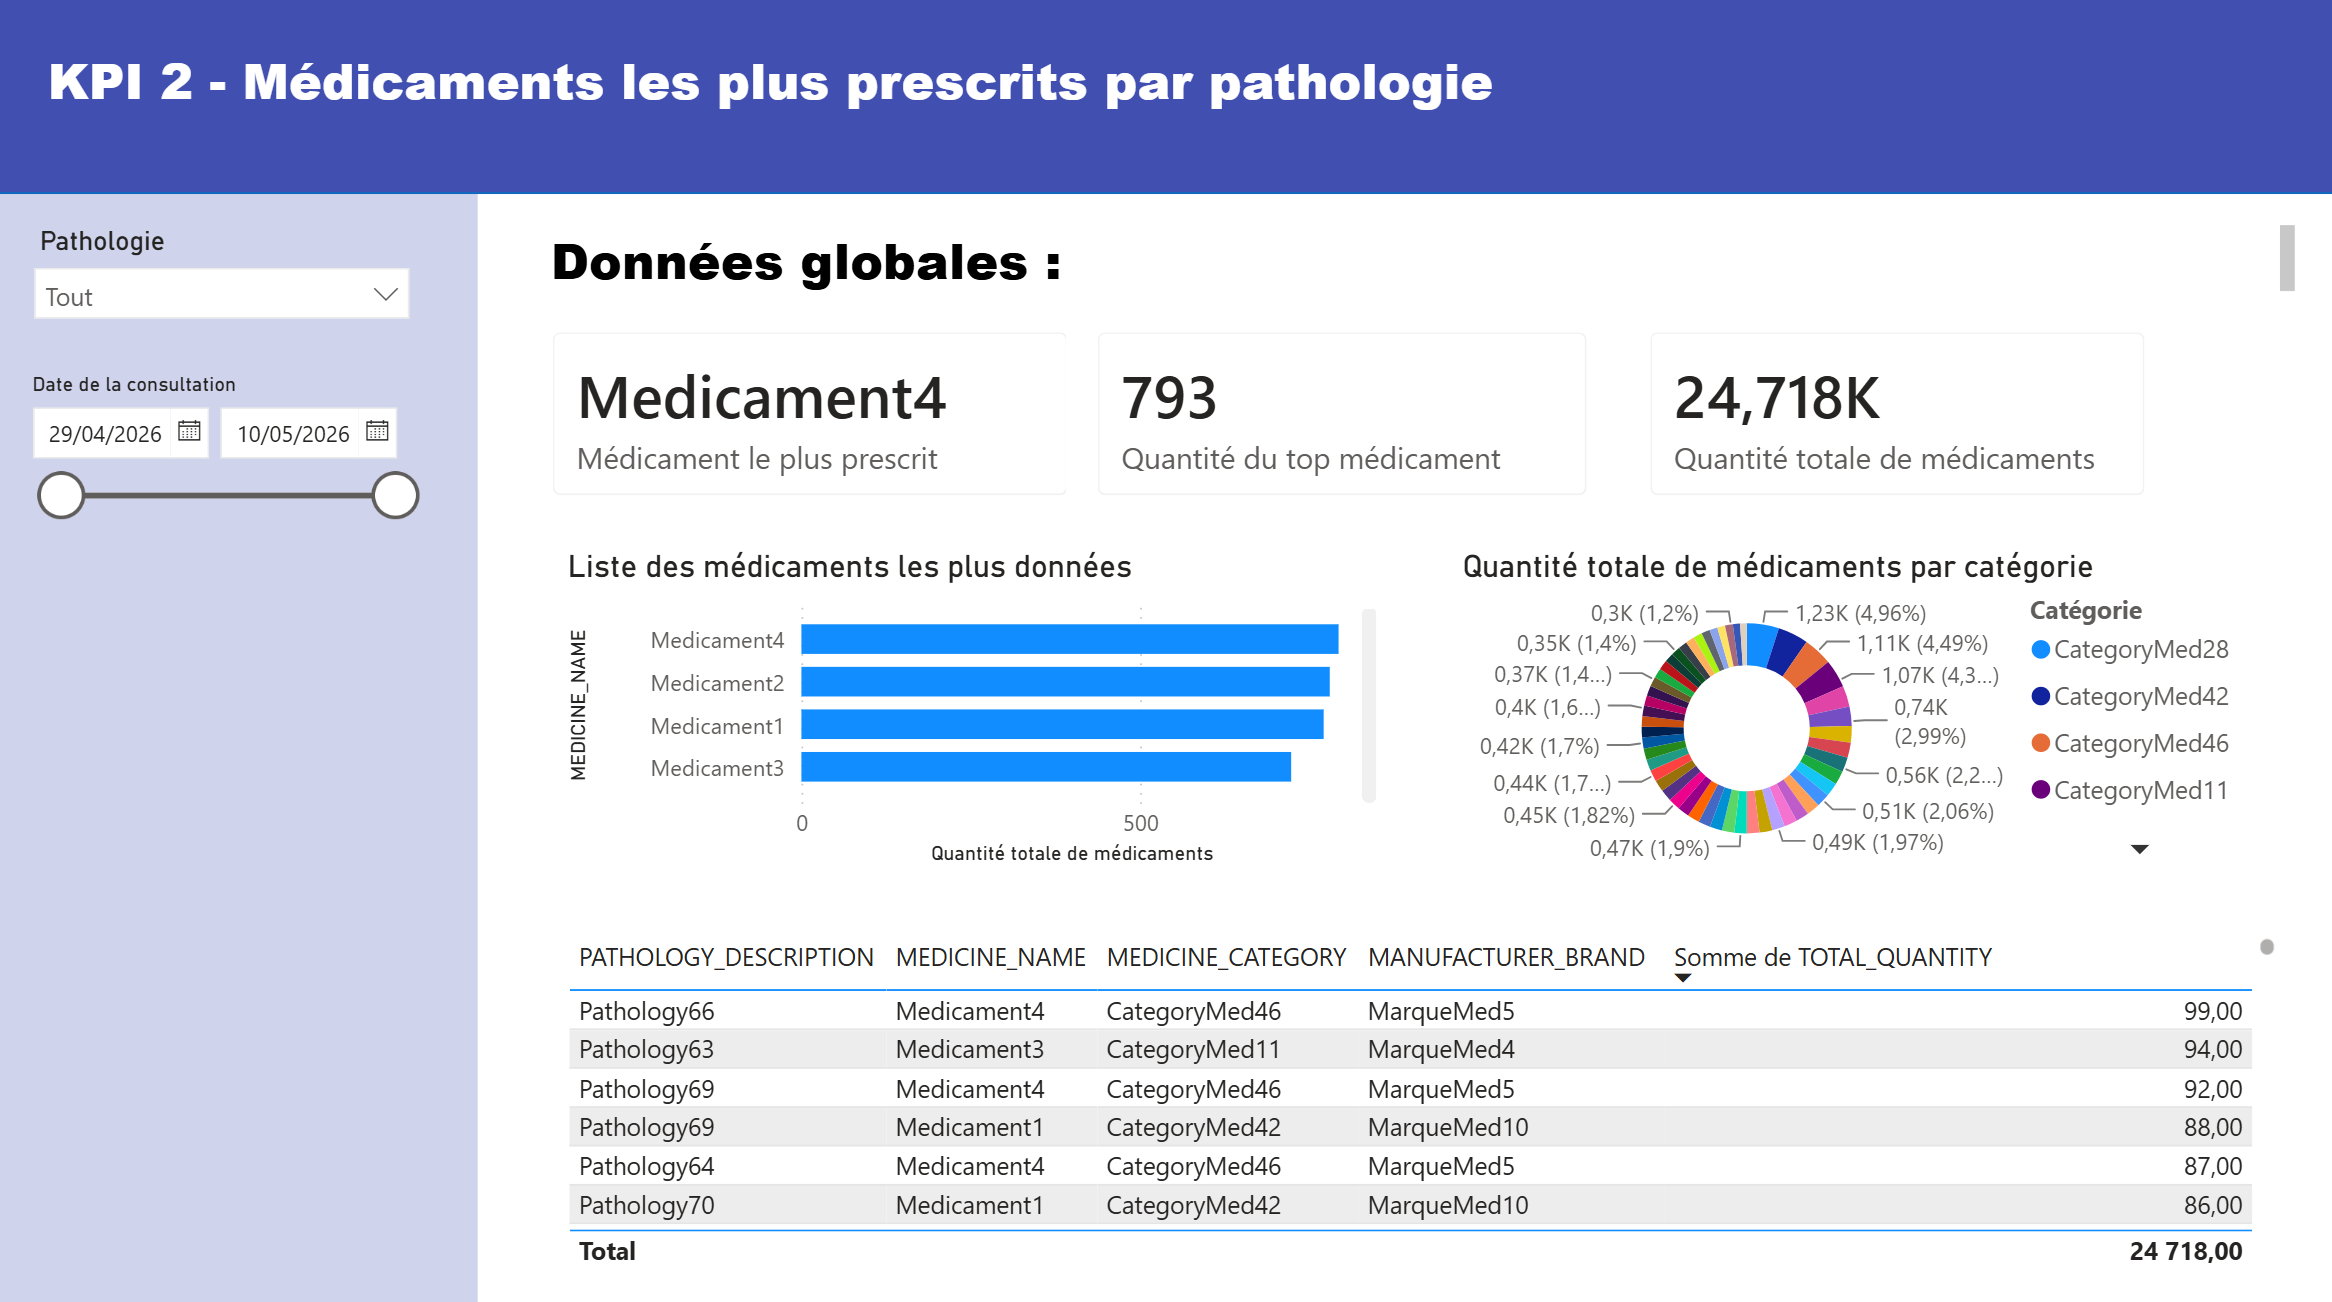

This screenshot's page, from the dashboard's own definition file:
{"tool":"powerbi","page":{"name":"KPI 2 - Top médicament","canvas":[1280,720],"ordinal":2},"visuals":[{"type":"shape","box":[0,116.7,265.6,603.3],"z":0},{"type":"tableEx","fields":{"Values":["VW_TOP_MEDICATION_BY_PATHOLOGY.PATHOLOGY_DESCRIPTION","VW_TOP_MEDICATION_BY_PATHOLOGY.MEDICINE_NAME","VW_TOP_MEDICATION_BY_PATHOLOGY.MEDICINE_CATEGORY","VW_TOP_MEDICATION_BY_PATHOLOGY.MANUFACTURER_BRAND","Sum(VW_TOP_MEDICATION_BY_PATHOLOGY.TOTAL_QUANTITY)"]},"box":[308.9,513.3,932.2,188.9],"z":1000},{"type":"shape","box":[0,0,1280,116.7],"z":2000},{"type":"textbox","box":[27.8,31.1,833.3,55.6],"z":3000},{"type":"slicer","fields":{"Values":["VW_TOP_MEDICATION_BY_PATHOLOGY.PATHOLOGY_DESCRIPTION"]},"box":[15.6,127.8,222.2,142.2],"z":4000},{"type":"slicer","fields":{"Values":["VW_TOP_MEDICATION_BY_PATHOLOGY.REPORT_DATE"]},"box":[12.2,207.8,230,142.2],"z":5000},{"type":"cardVisual","fields":{"Data":["VW_TOP_MEDICATION_BY_PATHOLOGY.Médicament le plus prescrit"]},"box":[288.9,174.4,312.2,122.2],"z":6000},{"type":"cardVisual","fields":{"Data":["VW_TOP_MEDICATION_BY_PATHOLOGY.Quantité du top médicament"]},"box":[583.3,174.4,298.9,122.2],"z":7000},{"type":"cardVisual","fields":{"Data":["VW_TOP_MEDICATION_BY_PATHOLOGY.Total Quantité"]},"box":[882.2,174.4,301.1,122.2],"z":8000},{"type":"textbox","box":[300,127.8,952.2,46.7],"z":9000},{"type":"barChart","title":"Liste des médicaments les plus données","fields":{"Category":["VW_TOP_MEDICATION_BY_PATHOLOGY.MEDICINE_NAME"],"Y":["VW_TOP_MEDICATION_BY_PATHOLOGY.Quantité totale de médicaments"]},"box":[308.9,307.8,446.7,175.6],"z":10000},{"type":"donutChart","title":"Quantité totale de médicaments par catégorie","fields":{"Category":["VW_TOP_MEDICATION_BY_PATHOLOGY.MEDICINE_CATEGORY"],"Y":["VW_TOP_MEDICATION_BY_PATHOLOGY.Quantité totale de médicaments"]},"box":[792.2,307.8,433.3,175.6],"z":11000}]}

Visuals, with their boxes in screenshot pixels (x1, y1, x2, y2), scaled from the page's 1280x720 canvas onto the 2332x1302 screenshot:
shape: pyautogui.locateOnScreen(0, 211, 484, 1301)
tableEx - VW_TOP_MEDICATION_BY_PATHOLOGY.PATHOLOGY_DESCRIPTION x VW_TOP_MEDICATION_BY_PATHOLOGY.MEDICINE_NAME: pyautogui.locateOnScreen(563, 928, 2261, 1270)
shape: pyautogui.locateOnScreen(0, 0, 2331, 211)
textbox: pyautogui.locateOnScreen(51, 56, 1569, 157)
slicer - VW_TOP_MEDICATION_BY_PATHOLOGY.PATHOLOGY_DESCRIPTION: pyautogui.locateOnScreen(28, 231, 433, 488)
slicer - VW_TOP_MEDICATION_BY_PATHOLOGY.REPORT_DATE: pyautogui.locateOnScreen(22, 376, 441, 633)
cardVisual - VW_TOP_MEDICATION_BY_PATHOLOGY.Médicament le plus prescrit: pyautogui.locateOnScreen(526, 315, 1095, 536)
cardVisual - VW_TOP_MEDICATION_BY_PATHOLOGY.Quantité du top médicament: pyautogui.locateOnScreen(1063, 315, 1607, 536)
cardVisual - VW_TOP_MEDICATION_BY_PATHOLOGY.Total Quantité: pyautogui.locateOnScreen(1607, 315, 2156, 536)
textbox: pyautogui.locateOnScreen(547, 231, 2281, 316)
"Liste des médicaments les plus données" barChart: pyautogui.locateOnScreen(563, 557, 1377, 874)
"Quantité totale de médicaments par catégorie" donutChart: pyautogui.locateOnScreen(1443, 557, 2233, 874)
